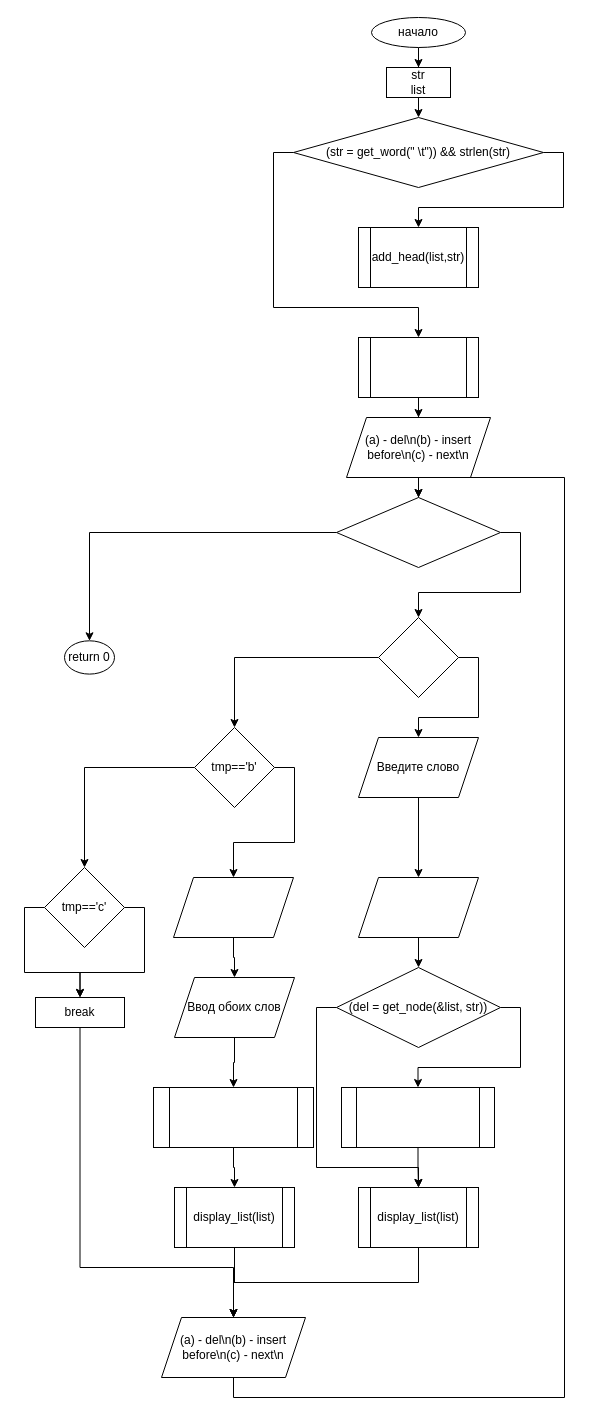
The diagram is 590 pixels wide and 1423 high, and some of its shapes have lost their labels. Each missing label, with the centre of its shape:
(tmp = getchar()) != EOF: (x=418, y=532)
delete_node(list,del): (x=417, y=1117)
insert(list, get_node(list,str),str2): (x=233, y=1117)
sort(list) display_list(list): (x=418, y=367)
tmp=='a': (x=418, y=657)
Введите перед каким словом и само слово: (x=233, y=907)
Чтение слова: (x=418, y=907)
